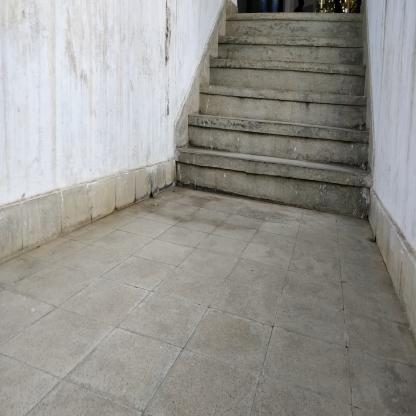stairs: (211, 58, 365, 216)
